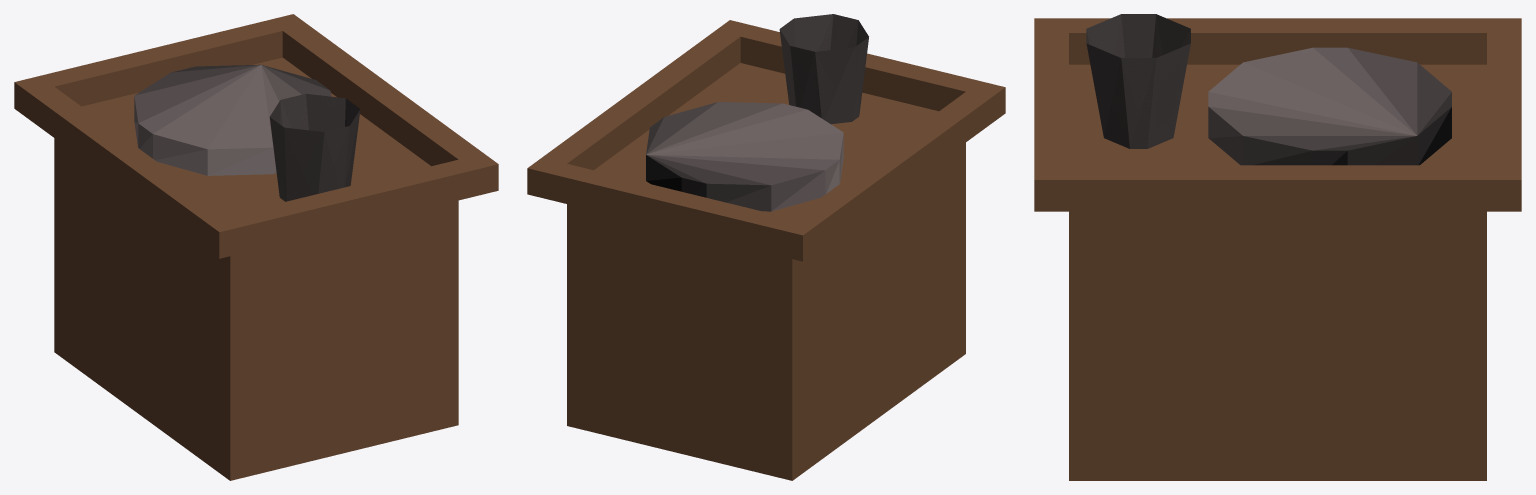
File: potter.obj
3 renders of one model, left to right at view 1: azimuth 30°, elevation 25°; view 2: azimuth 150°, elevation 25°; view 3: azimuth 270°, elevation 25°, orthographic. The views are drawn at different scales.
Parts seen in each view (by area): view 1: ware; view 2: ware; view 3: ware.
Part boxes in pixels (bbox=[...]): ware: bbox=[14, 14, 498, 480]; ware: bbox=[527, 14, 1005, 480]; ware: bbox=[1034, 14, 1521, 480].
Bounding box in the file's own units: 88 × 96 × 112.
